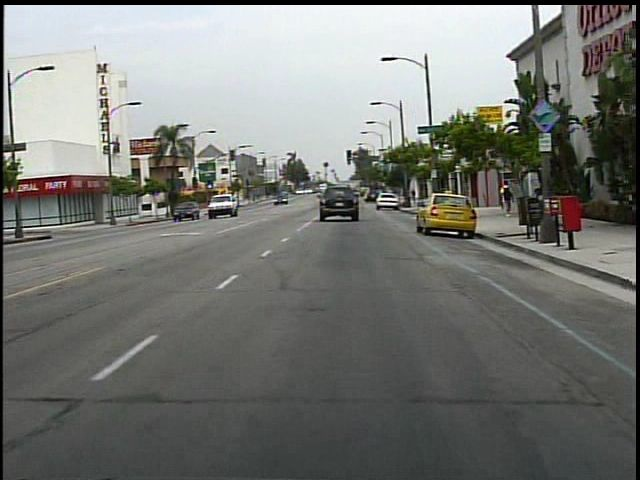person: (497, 175, 517, 222)
